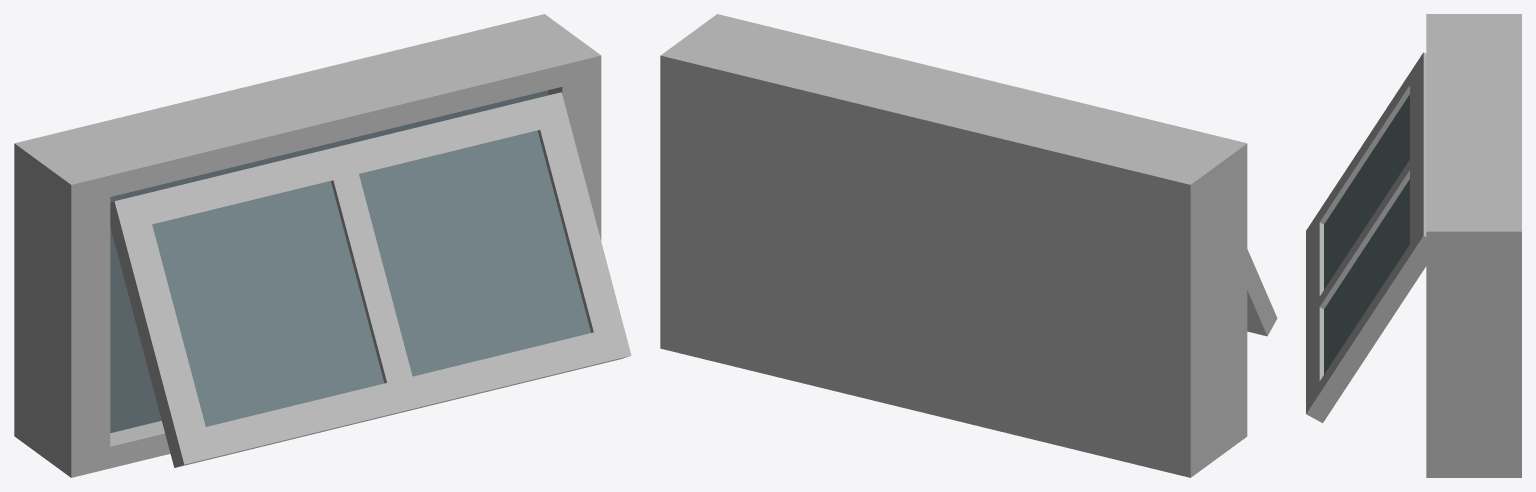
Rendered from windowOpen.fbx.
3 views of the same model, side by side, from view 1: azimuth 30°, elevation 25°; view 2: azimuth 150°, elevation 25°; view 3: azimuth 270°, elevation 25° (orthographic). The views are drawn at different scales.
Visible parts, largest first — view 1: Window Open; view 2: Window Open; view 3: Window Open.
Part boxes in pixels (x1,y1,x2,y2): Window Open: (14,14,631,477); Window Open: (660,14,1277,477); Window Open: (1306,14,1521,477).
Bounding box in the file's own units: 119 × 49.92 × 62.89.
